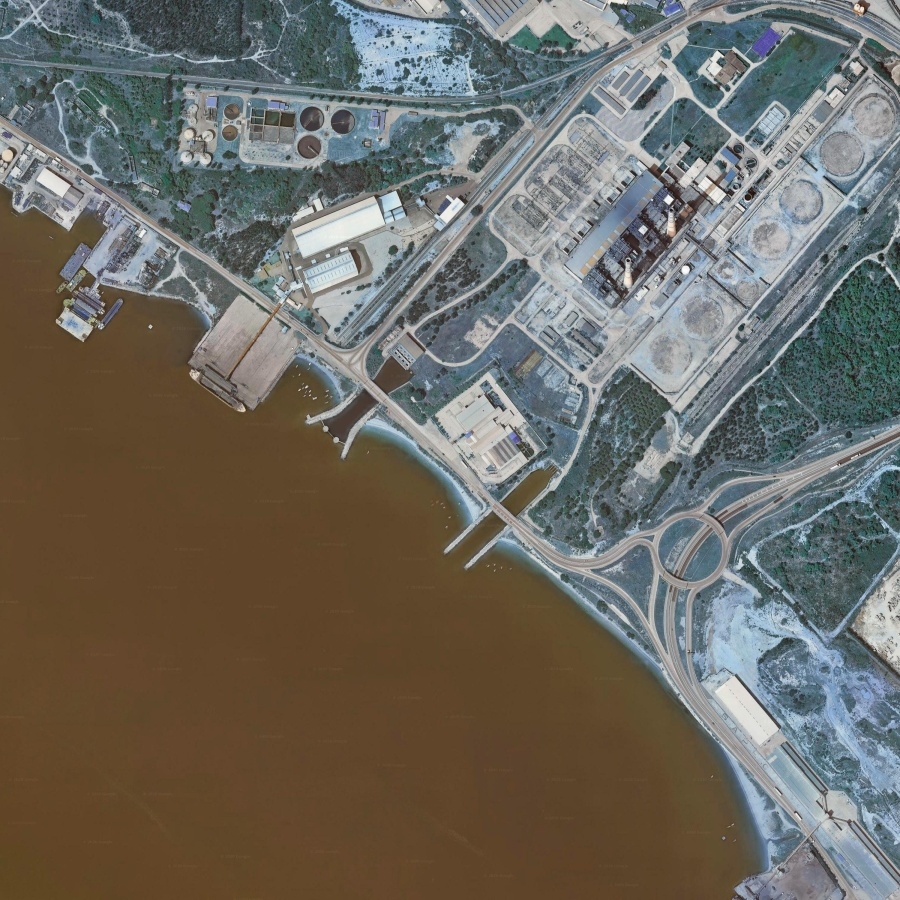PowerPlant: (524, 40, 898, 381)
